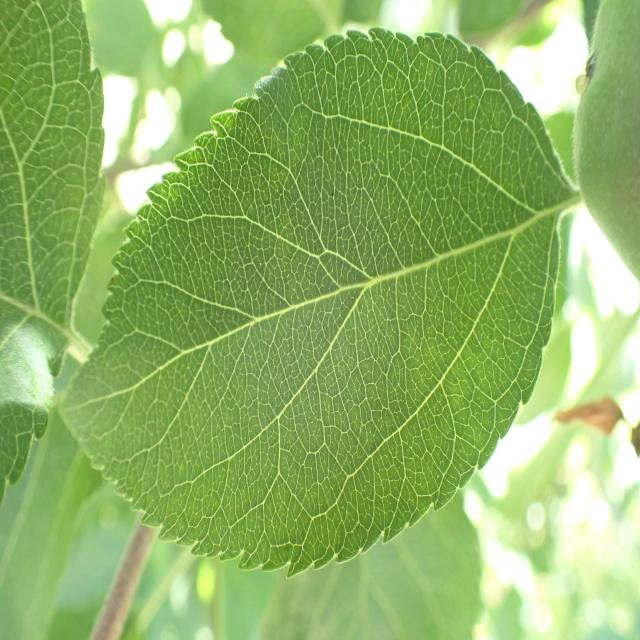healthy: (59, 26, 582, 576), (0, 2, 106, 506), (571, 0, 640, 283)
